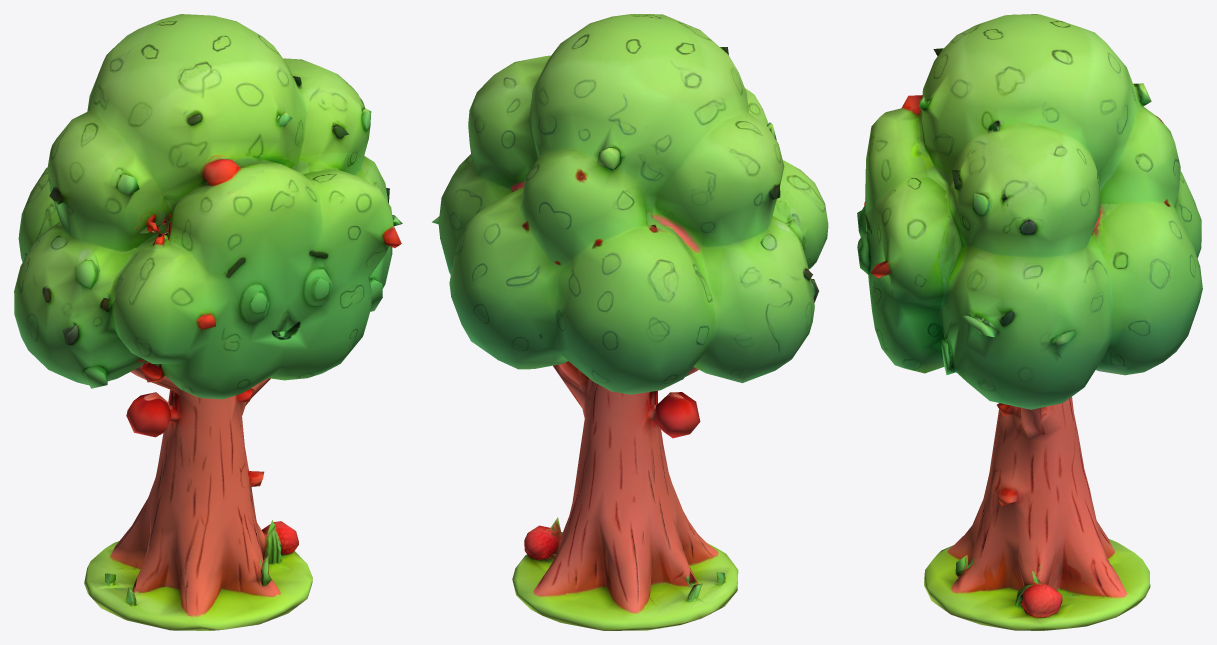
Rendered from cartoon_tree_1111232532_texture_draco.glb.
The picture shows the model from 3 angles, left to right: view 1: azimuth 30°, elevation 25°; view 2: azimuth 150°, elevation 25°; view 3: azimuth 270°, elevation 25°; orthographic projection.
Parts seen in each view (by area): view 1: Mesh1.0; view 2: Mesh1.0; view 3: Mesh1.0.
Boxes of the visible parts, x1,y1,x2,y2 form: Mesh1.0: (14,14,402,630); Mesh1.0: (432,14,828,630); Mesh1.0: (857,14,1202,630).
Bounding box in the file's own units: 1.28 × 1.91 × 1.08.
Materials: 1 (1 with a texture image).
